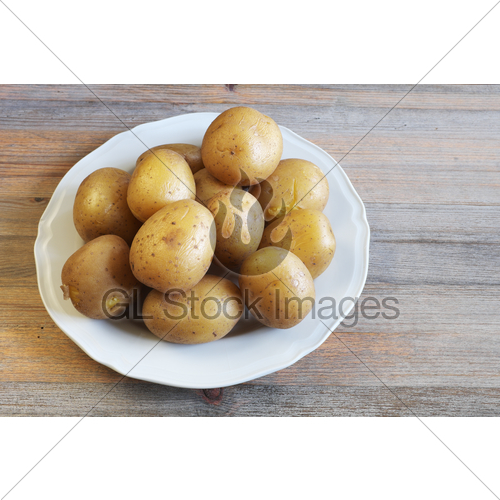boiled potatoes: (75, 124, 326, 332)
